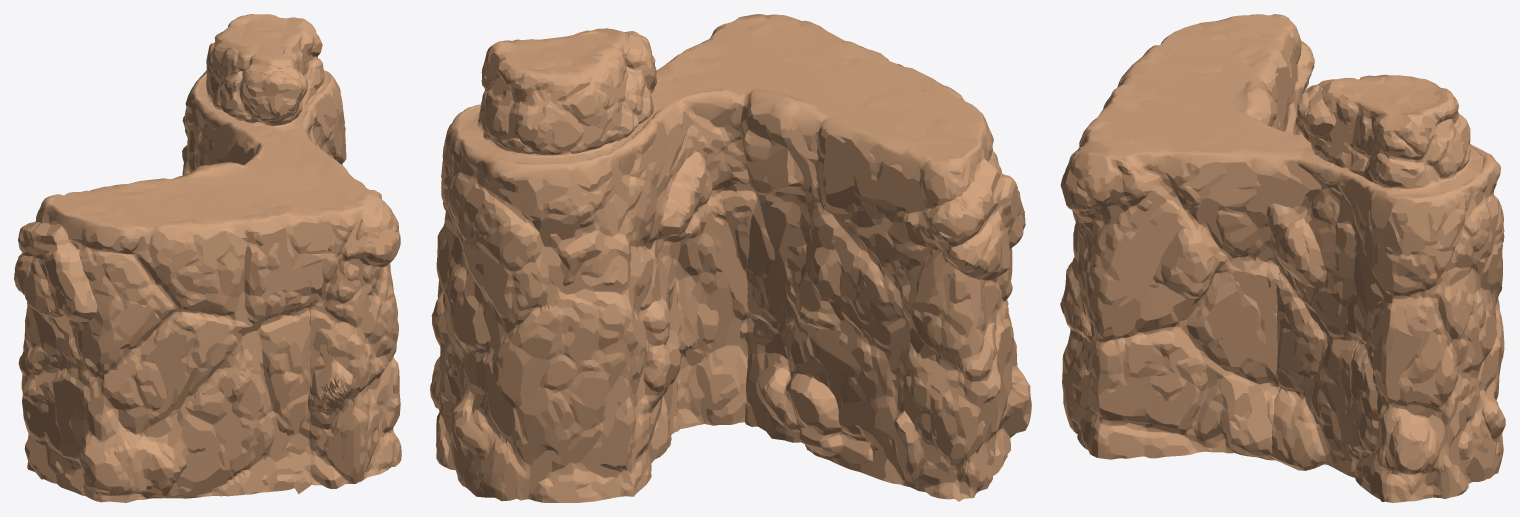
Rendered from SandstoneBig_Mesh_42LODs.fbx.
The picture shows the model from 3 angles, left to right: view 1: azimuth 30°, elevation 25°; view 2: azimuth 150°, elevation 25°; view 3: azimuth 270°, elevation 25°; orthographic projection. The views are drawn at different scales.
Visible parts, largest first — view 1: Mesh_42_LOD0; view 2: Mesh_42_LOD0; view 3: Mesh_42_LOD0.
Part boxes in pixels (x1=…): Mesh_42_LOD0: x1=14, y1=14, x2=401, y2=502; Mesh_42_LOD0: x1=430, y1=14, x2=1031, y2=502; Mesh_42_LOD0: x1=1060, y1=14, x2=1505, y2=502.
Size of what is drawn, in the model's own units: 17493 by 14287 by 15323.
